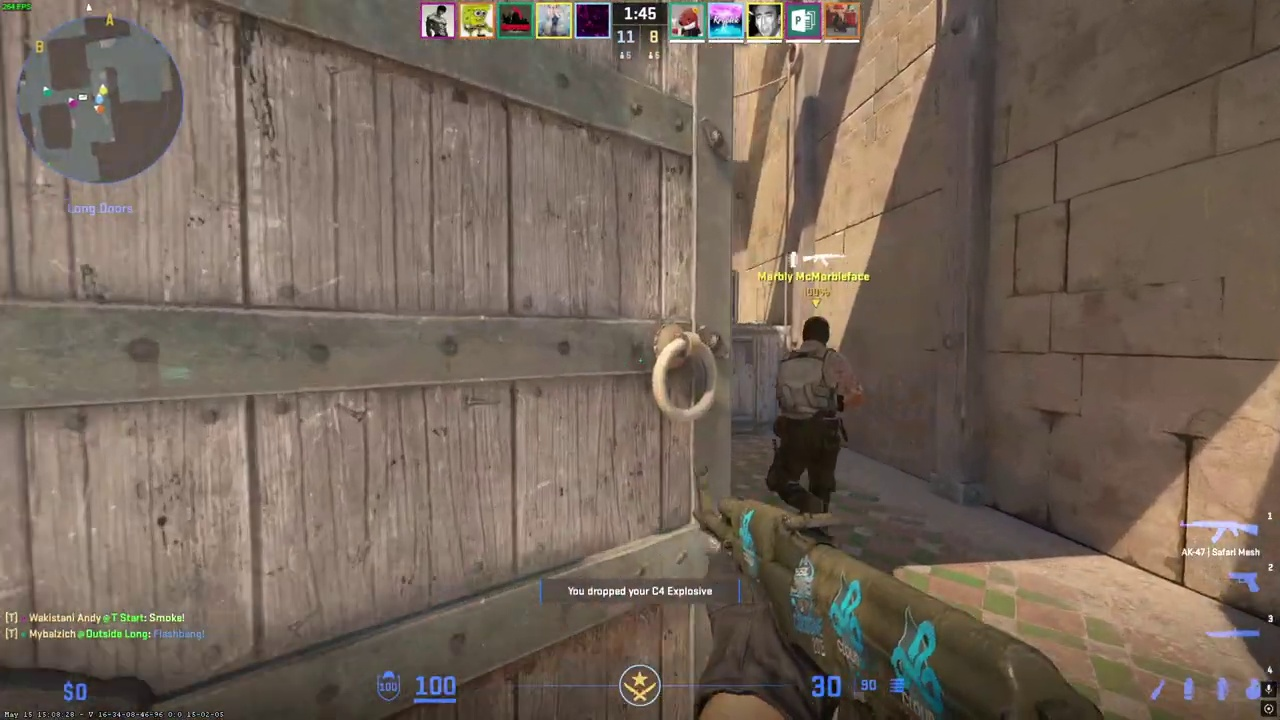Terrorist: (763, 313, 856, 517)
